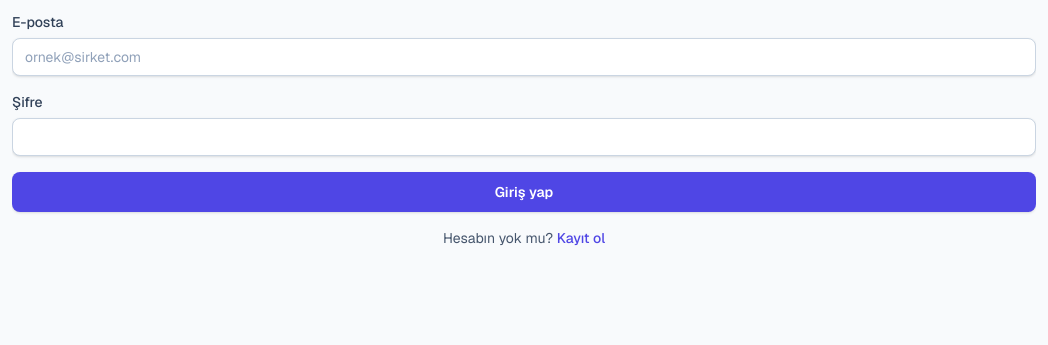
Test: LoginForm › server action'dan gelen şifre alan hatasını gösterir
Type "a@b.com" into the field labelled "E-posta" at (524, 57), box x1=12 y1=38 x2=1036 y2=76
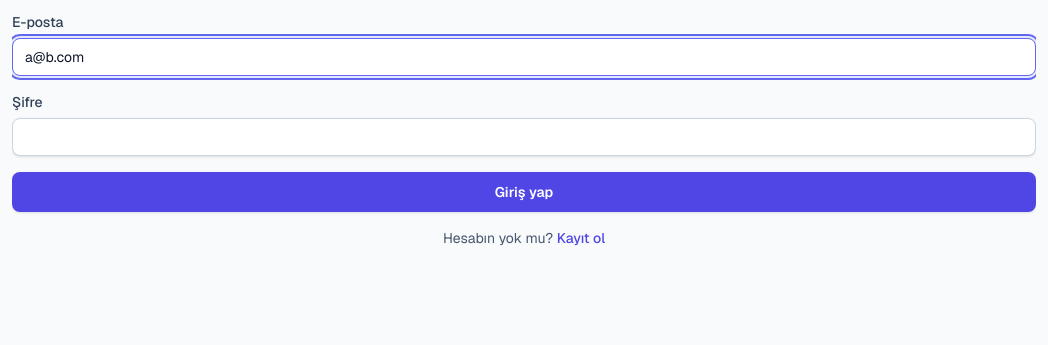
Type "x" into the password field labelled "Şifre" at (524, 137), box x1=12 y1=118 x2=1036 y2=156
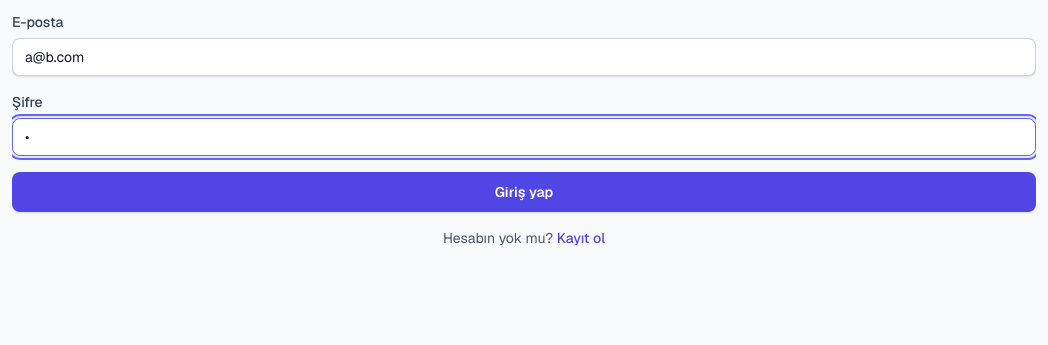
Click the button "Giriş yap" at (524, 192), box x1=12 y1=172 x2=1036 y2=212
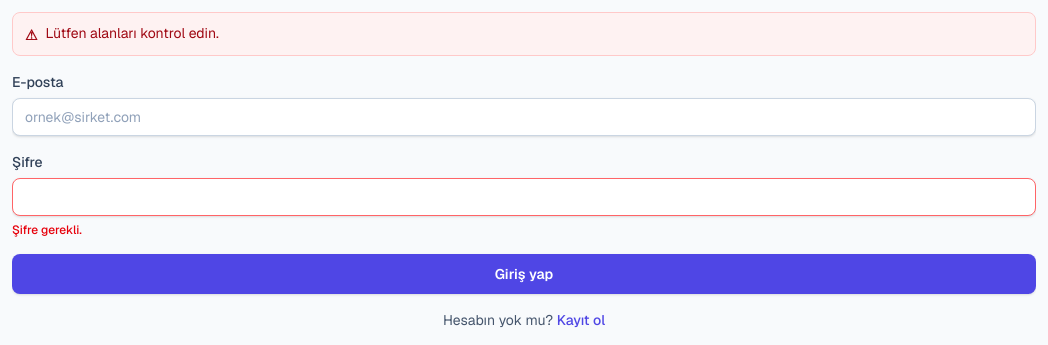
Result: the text "Şifre gerekli." is shown at x1=12 y1=222 x2=82 y2=238
